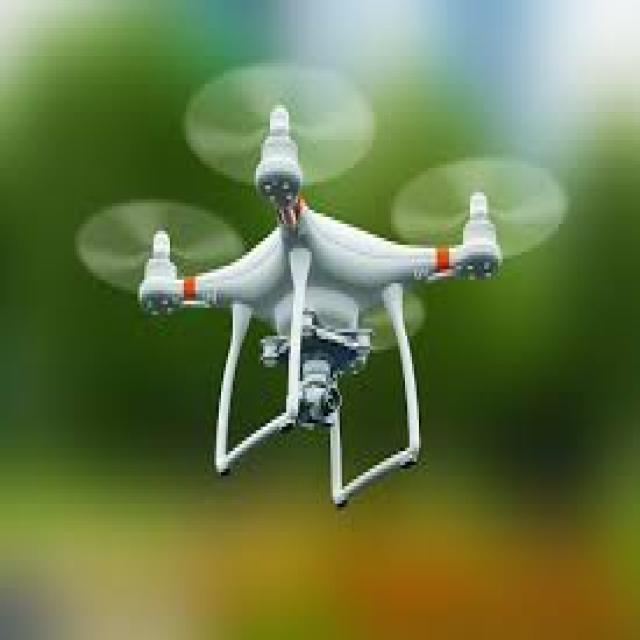drone: (102, 69, 567, 526)
